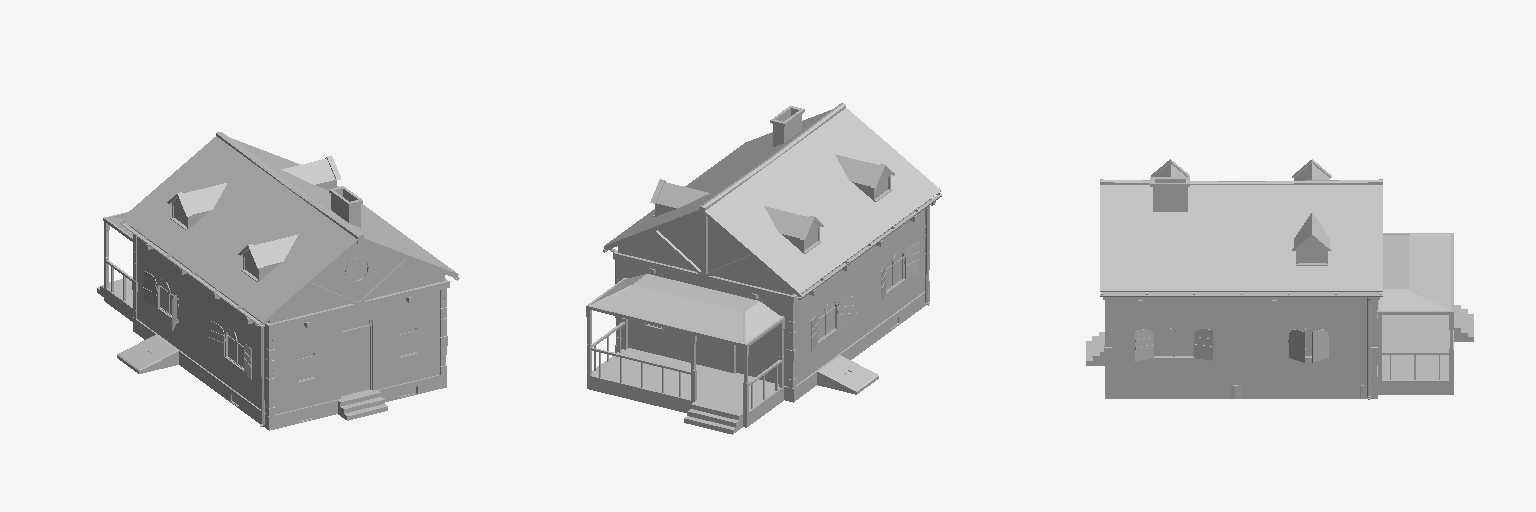
File: houseA_obj.obj
The picture shows the model from 3 angles: view 1: azimuth 30°, elevation 25°; view 2: azimuth 150°, elevation 25°; view 3: azimuth 270°, elevation 25°; orthographic projection.
Visible parts, largest first — view 1: houseA_houseA_HouseAMat_houseA_jpg; view 2: houseA_houseA_HouseAMat_houseA_jpg; view 3: houseA_houseA_HouseAMat_houseA_jpg.
Part boxes in pixels (x1,y1,x2,y2): houseA_houseA_HouseAMat_houseA_jpg: (97,132,459,430); houseA_houseA_HouseAMat_houseA_jpg: (586,103,941,434); houseA_houseA_HouseAMat_houseA_jpg: (1086,159,1473,399).
Bounding box in the file's own units: 1.12 × 0.8689 × 1.66.